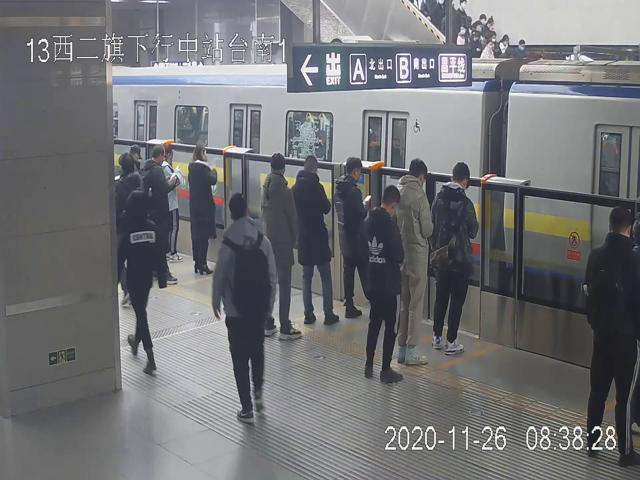person: (583, 205, 640, 471), (211, 193, 275, 427), (431, 161, 479, 355), (362, 184, 405, 383), (292, 156, 340, 326), (260, 151, 302, 340), (397, 156, 434, 364), (118, 191, 158, 375), (334, 157, 373, 318), (142, 143, 177, 283), (188, 143, 216, 275)
